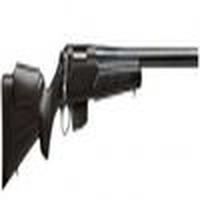gun: (4, 38, 190, 169)
